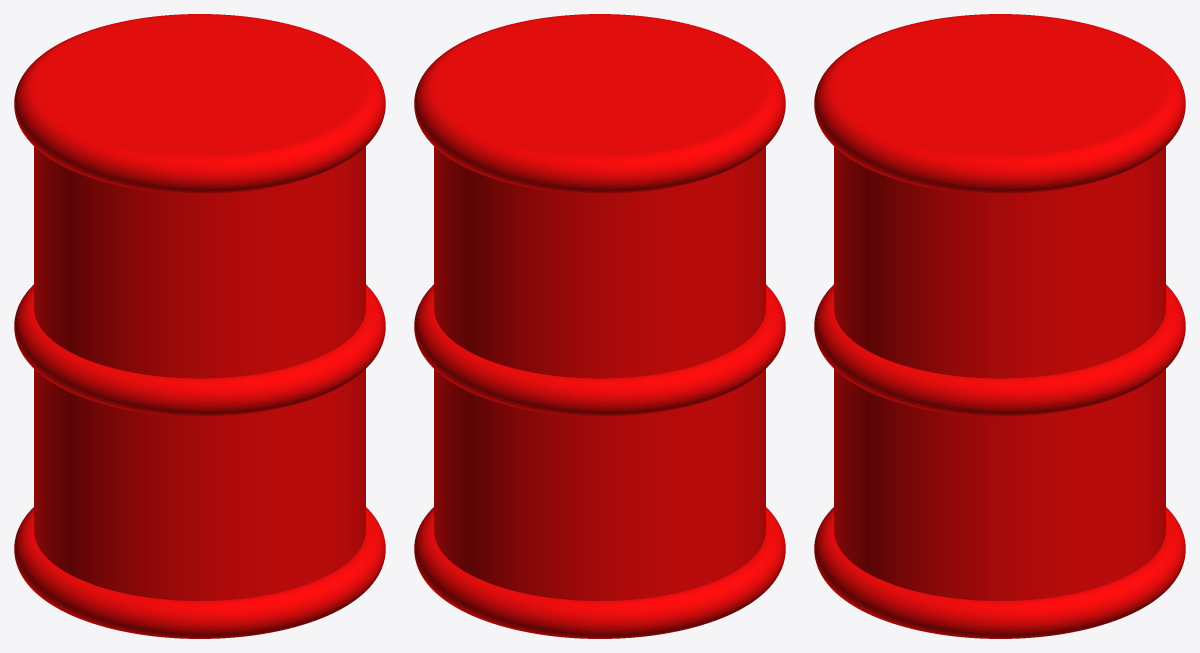
File: Barrel_Red.dae
3 views of the same model, side by side, from view 1: azimuth 30°, elevation 25°; view 2: azimuth 150°, elevation 25°; view 3: azimuth 270°, elevation 25° (orthographic).
Visible parts, largest first — view 1: node0; view 2: node0; view 3: node0.
Part boxes in pixels (x1,y1,x2,y2): node0: [14, 14, 385, 638]; node0: [414, 14, 785, 638]; node0: [814, 14, 1185, 638].
Bounding box in the file's own units: 0.056 × 0.056 × 0.08.
